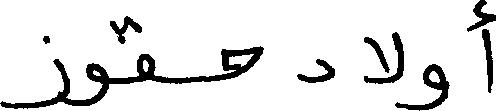X: (0, 31, 70, 110), (365, 27, 402, 110), (470, 0, 495, 97), (404, 59, 446, 110), (72, 58, 108, 110), (223, 41, 262, 84), (301, 54, 334, 87), (138, 19, 154, 86)
